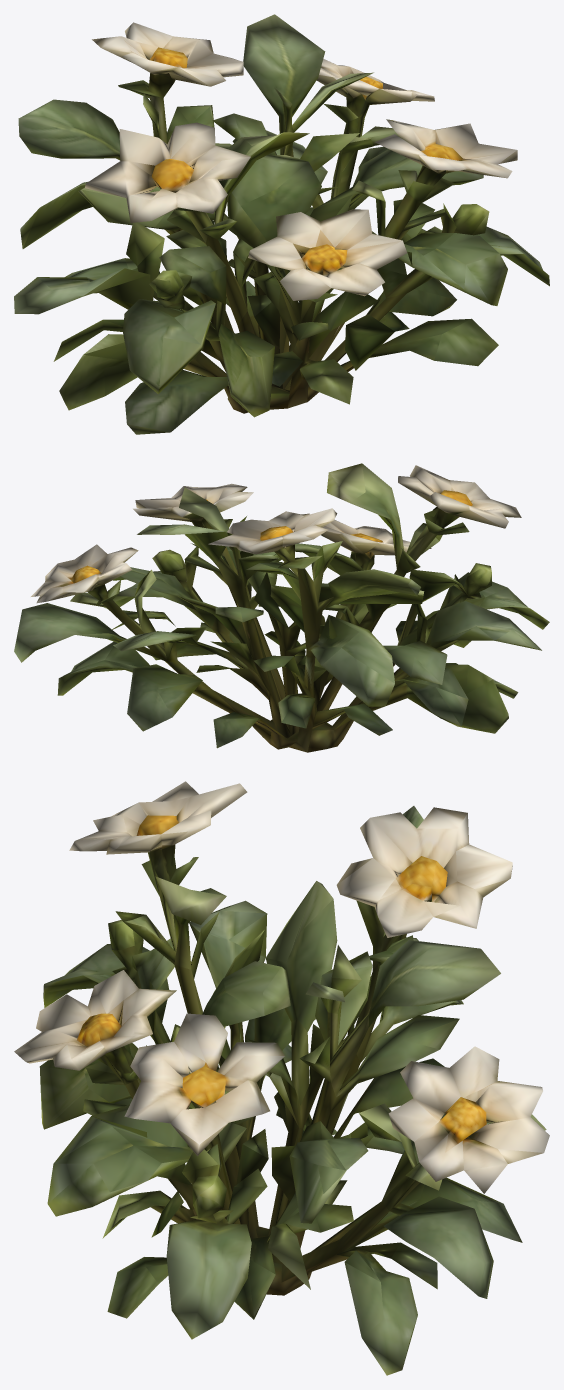
Rendered from planting.glb.
3 renders of one model, top to bottom at view 1: azimuth 30°, elevation 25°; view 2: azimuth 150°, elevation 25°; view 3: azimuth 270°, elevation 25°, orthographic. The views are drawn at different scales.
Parts seen in each view (by area): view 1: tripo_node_24075fda; view 2: tripo_node_24075fda; view 3: tripo_node_24075fda.
Boxes of the visible parts, box(x1,y1,x2,y2) form: tripo_node_24075fda: box(14, 14, 549, 434); tripo_node_24075fda: box(14, 463, 549, 752); tripo_node_24075fda: box(14, 781, 549, 1375).
Bounding box in the file's own units: 0.6325 × 0.3696 × 0.44.
Materials: 1 (1 with a texture image).
